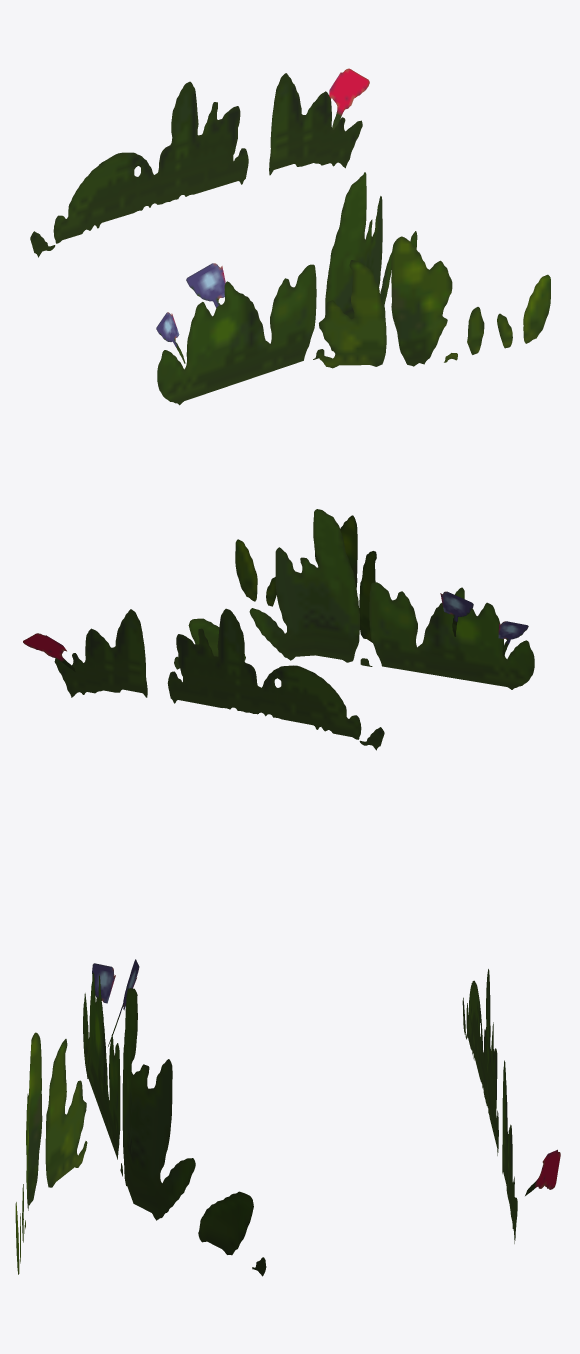
The model's file is hbxz_plant002_01.FBX.
3 views of the same model, one above another, from view 1: azimuth 30°, elevation 25°; view 2: azimuth 150°, elevation 25°; view 3: azimuth 270°, elevation 25° (orthographic). The views are drawn at different scales.
Visible parts, largest first — view 1: hbxz_plant002_01; view 2: hbxz_plant002_01; view 3: hbxz_plant002_01.
Boxes of the visible parts, x1,y1,x2,y2 form: hbxz_plant002_01: (30, 68, 550, 405); hbxz_plant002_01: (23, 509, 534, 750); hbxz_plant002_01: (15, 959, 560, 1276).
Bounding box in the file's own units: 82.3 × 41.6 × 70.3.
